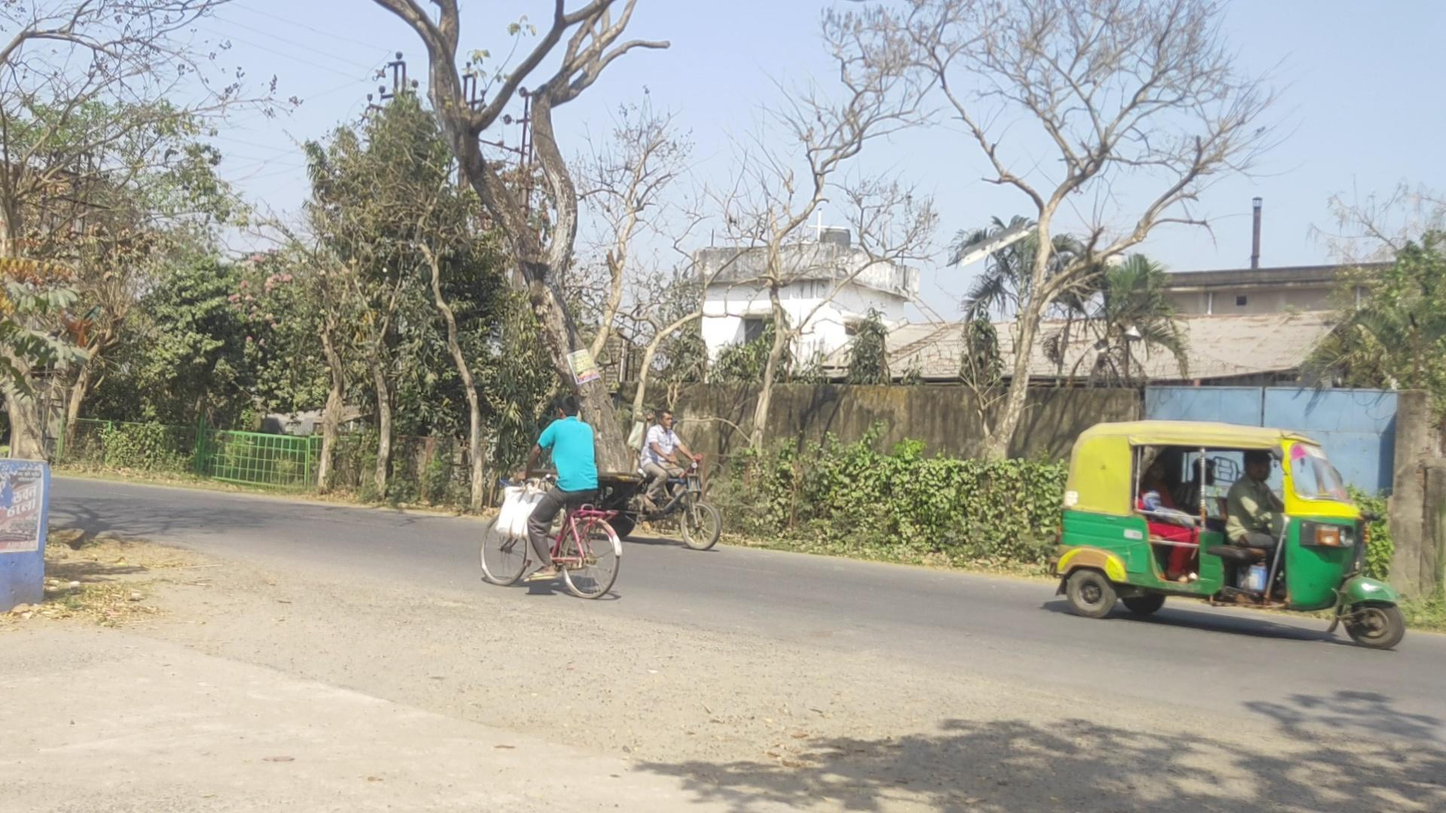Auto: (1055, 420, 1405, 650)
bike: (480, 395, 622, 599)
